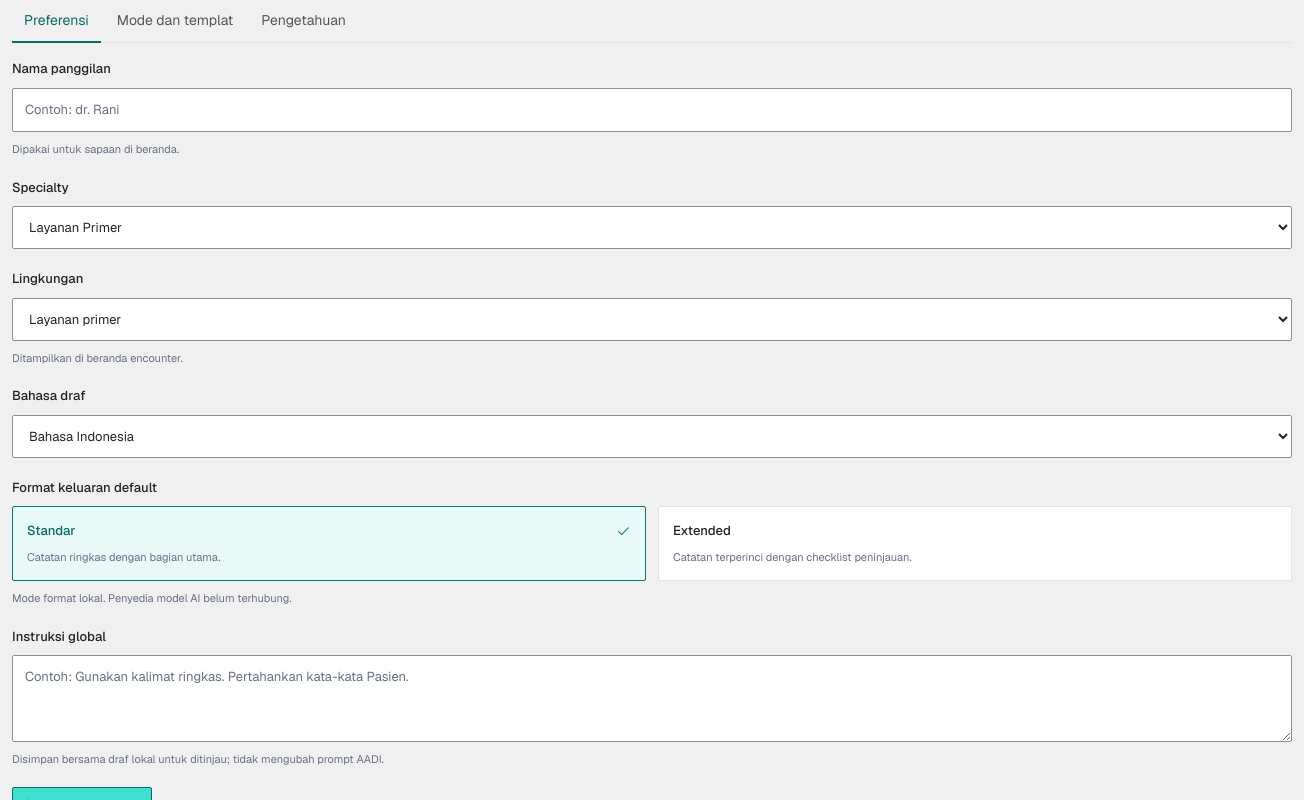
AgentSettings › has three tabs and saves environment from Preferensi
Expected: the tabs read "Preferensi", "Mode dan templat", "Pengetahuan", in this order, [12,0,101,43]; [105,0,245,43]; [249,0,358,43]
Select "Rawat jalan" in the dropdown labelled "Lingkungan". click: (652, 319)
box: [12,298,1292,341]
(page scrolled)
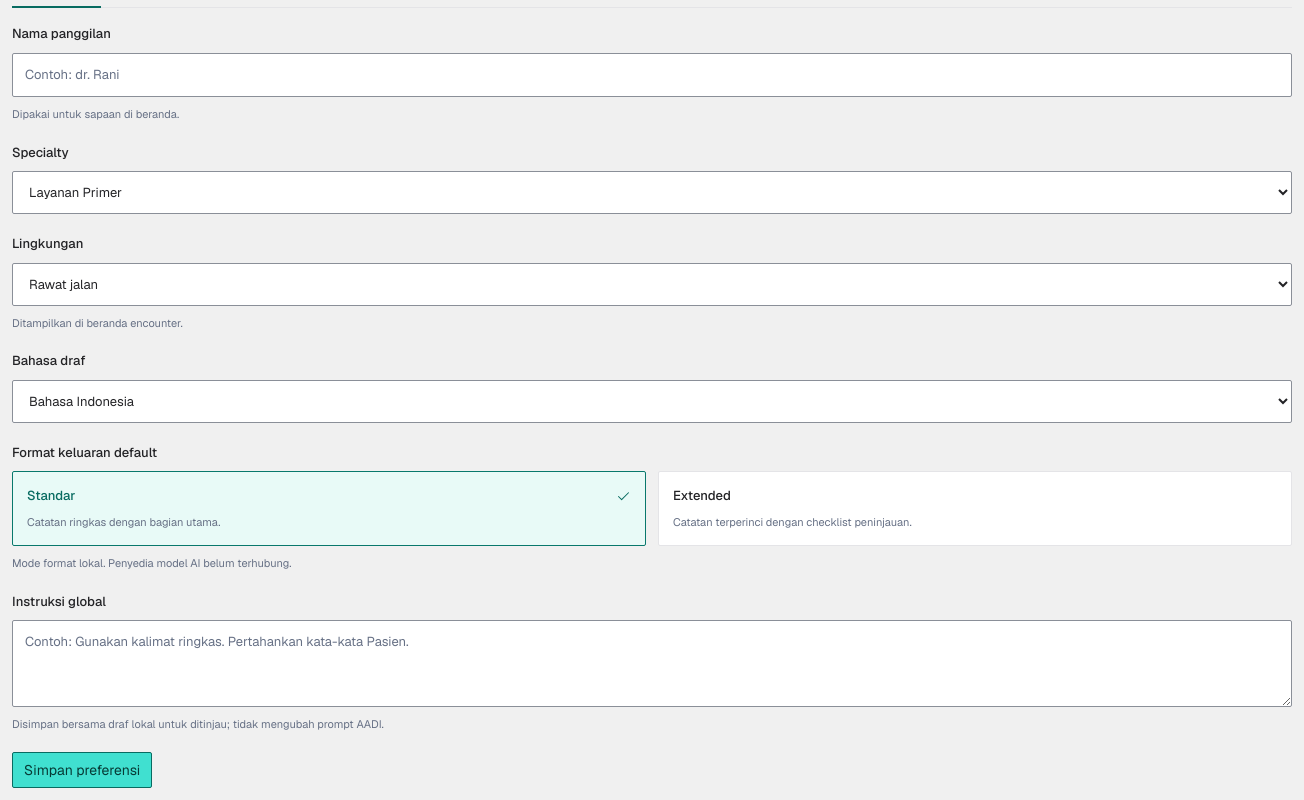
Click the button "Simpan preferensi". click: (82, 770)
box: [12,752,152,788]
(page scrolled)
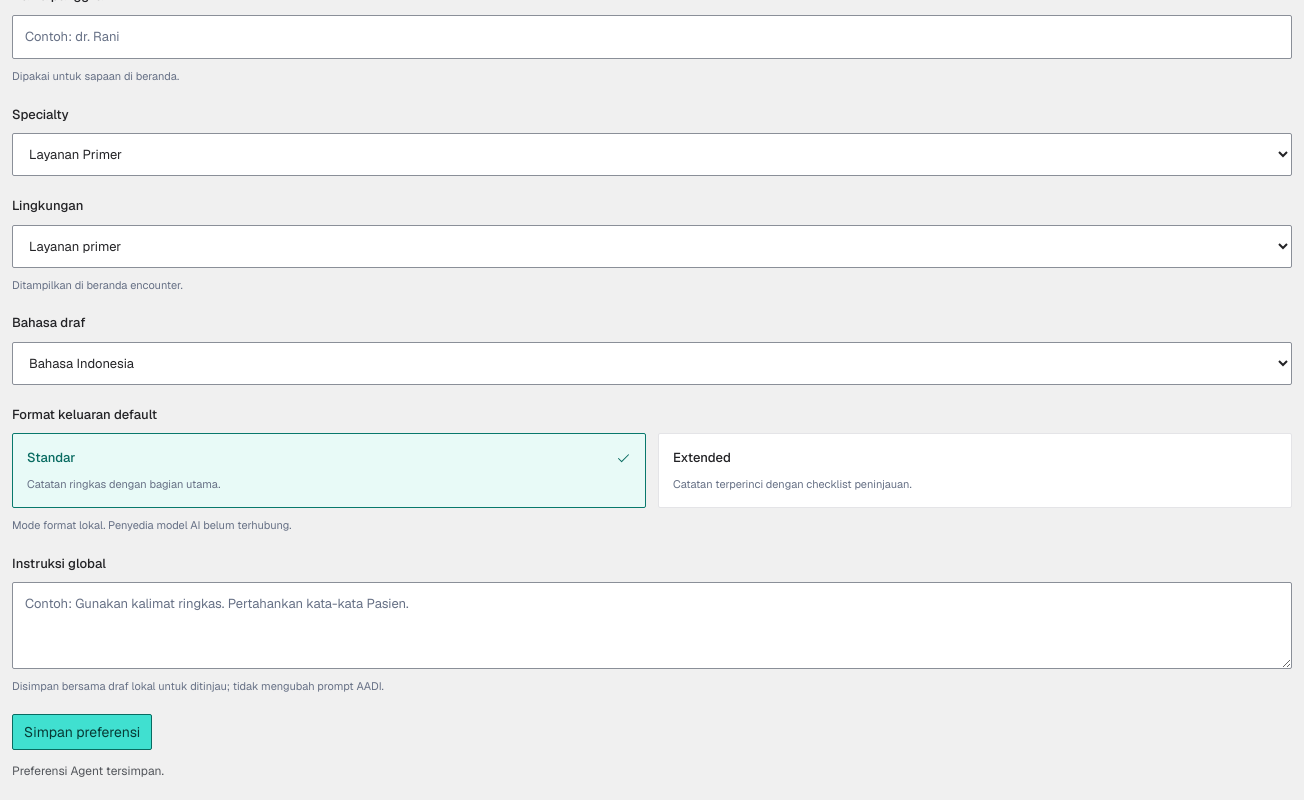
Expected: the message reads "Preferensi Agent tersimpan.", [12,763,164,779]
